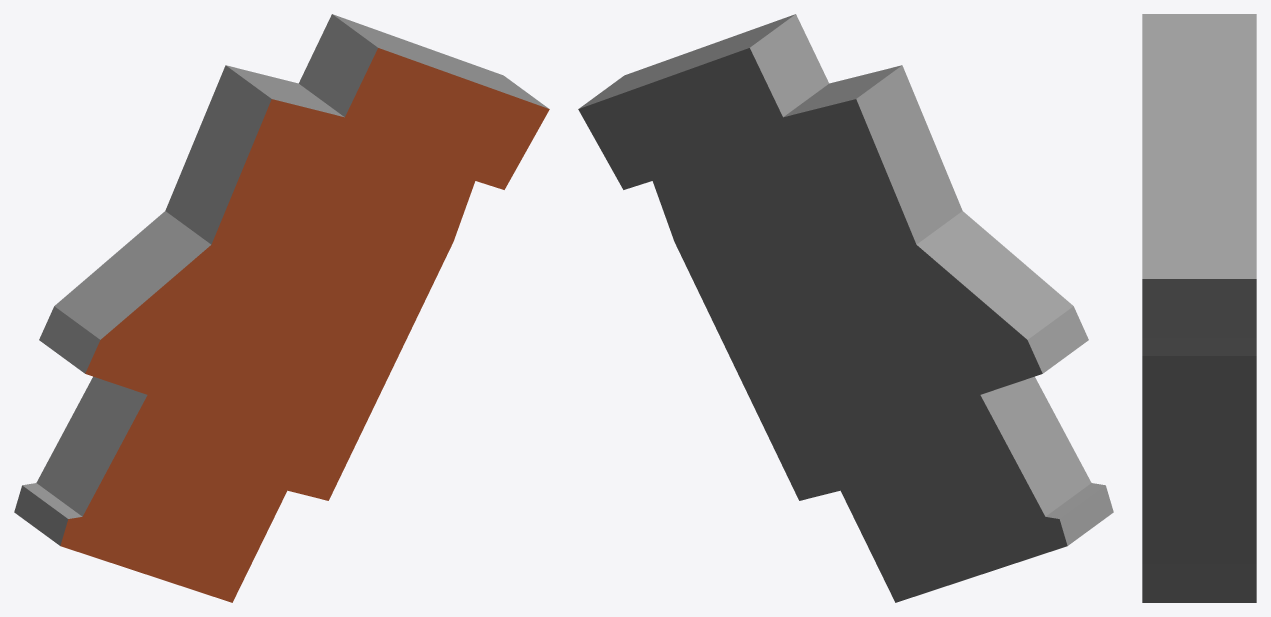
Rendered from construction_1345_assumed_A_Casa_h6m.obj.
The picture shows the model from 3 angles, left to right: view 1: azimuth 30°, elevation 25°; view 2: azimuth 150°, elevation 25°; view 3: azimuth 270°, elevation 25°; orthographic projection. The views are drawn at different scales.
Visible parts, largest first — view 1: construction_1345_assumed_A_Casa; view 2: construction_1345_assumed_A_Casa; view 3: construction_1345_assumed_A_Casa.
Part boxes in pixels (left/top/right/bottom): construction_1345_assumed_A_Casa: left=14, top=14, right=549, bottom=602; construction_1345_assumed_A_Casa: left=578, top=14, right=1113, bottom=602; construction_1345_assumed_A_Casa: left=1142, top=14, right=1256, bottom=602.
Bounding box in the file's own units: 36.71 × 37.24 × 6.
